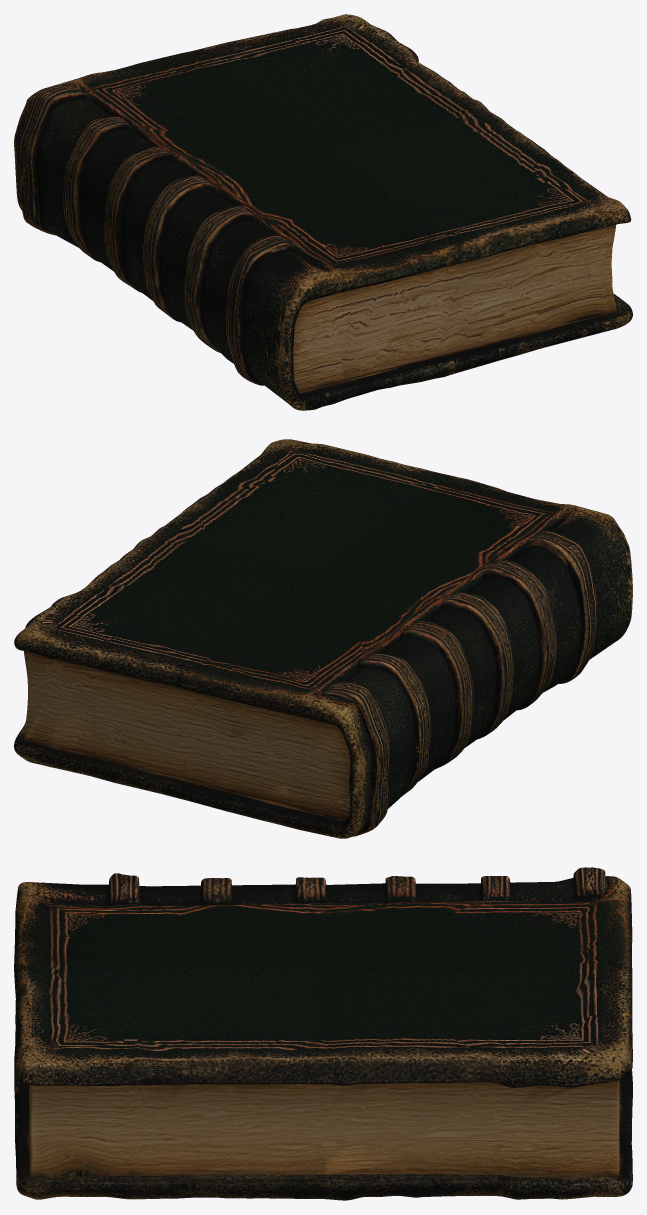
File: book2-opt-v1.fbx
3 views of the same model, one above another, from view 1: azimuth 30°, elevation 25°; view 2: azimuth 150°, elevation 25°; view 3: azimuth 270°, elevation 25° (orthographic). The views are drawn at different scales.
Visible parts, largest first — view 1: tripo_node_1679836a; view 2: tripo_node_1679836a; view 3: tripo_node_1679836a.
Boxes of the visible parts, x1,y1,x2,y2 form: tripo_node_1679836a: (14, 14, 632, 410); tripo_node_1679836a: (14, 439, 632, 838); tripo_node_1679836a: (14, 867, 632, 1200).
Bounding box in the file's own units: 75.31 × 28.94 × 98.13.
1 material, 1 textured.
